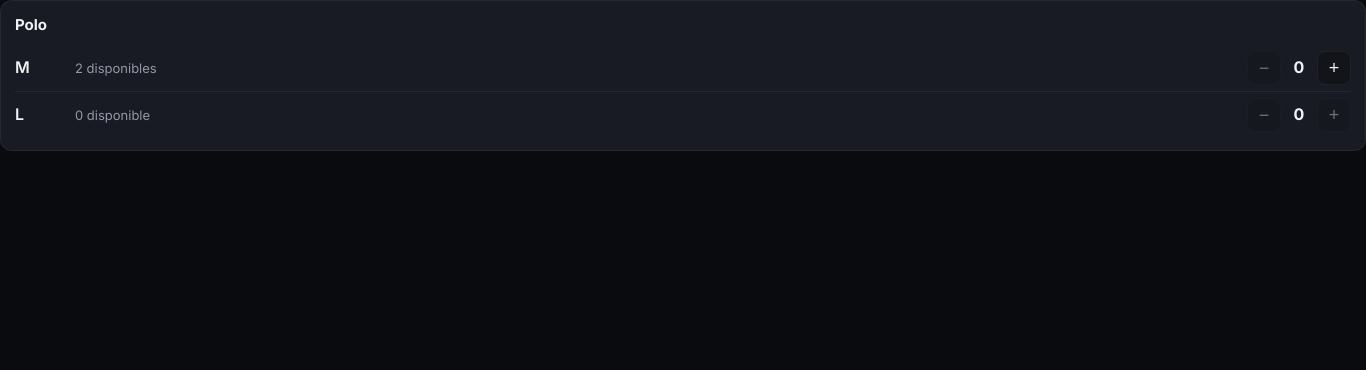
Test: UniformCatalog › affiche le 409 inline, garde le panier et recharge le catalogue
Click the button named "Ajouter un Polo M au panier" at (1334, 68), box x1=1317 y1=51 x2=1351 y2=85
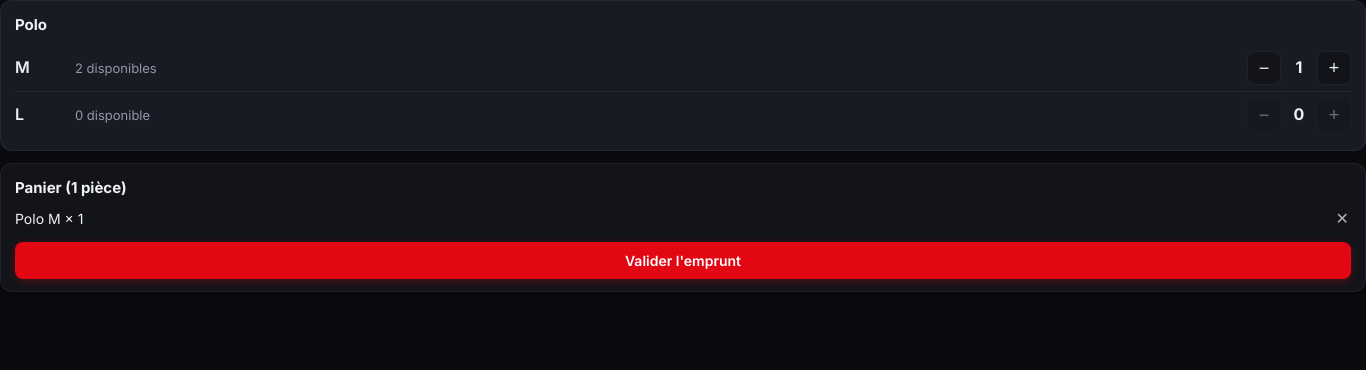
Click the button "Valider l'emprunt" at (683, 261), box x1=15 y1=242 x2=1351 y2=279
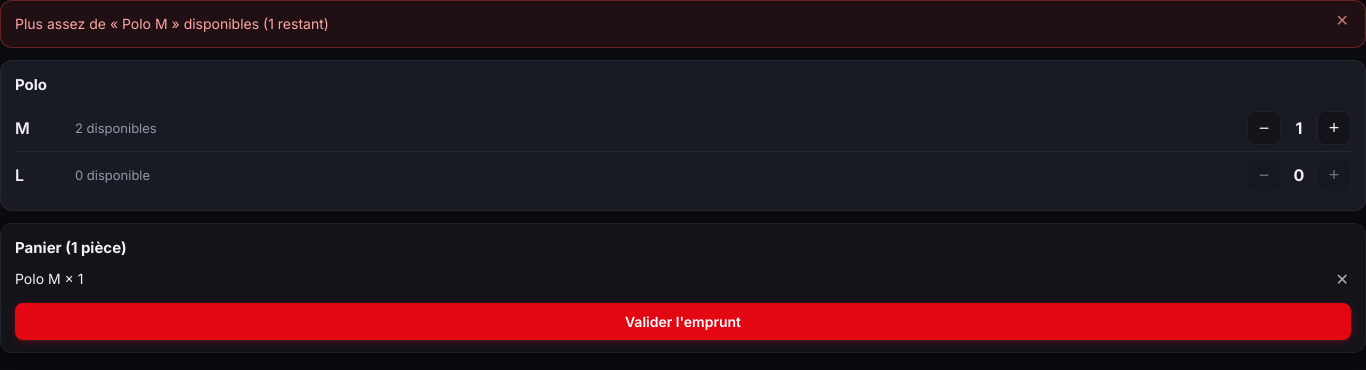
Now the text "Polo M × 1" is shown, box x1=15 y1=270 x2=84 y2=287
Now the message shows "Plus assez", box x1=15 y1=15 x2=329 y2=32
